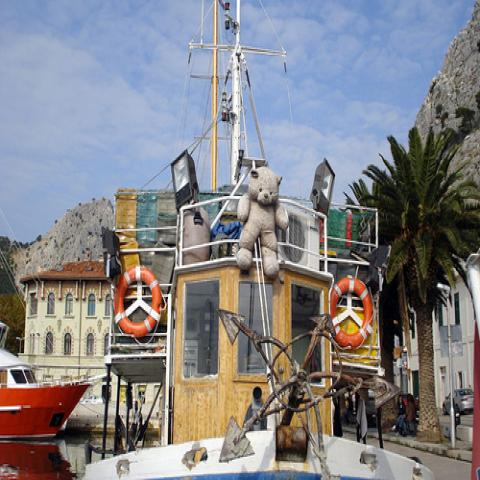car: (442, 388, 474, 416)
